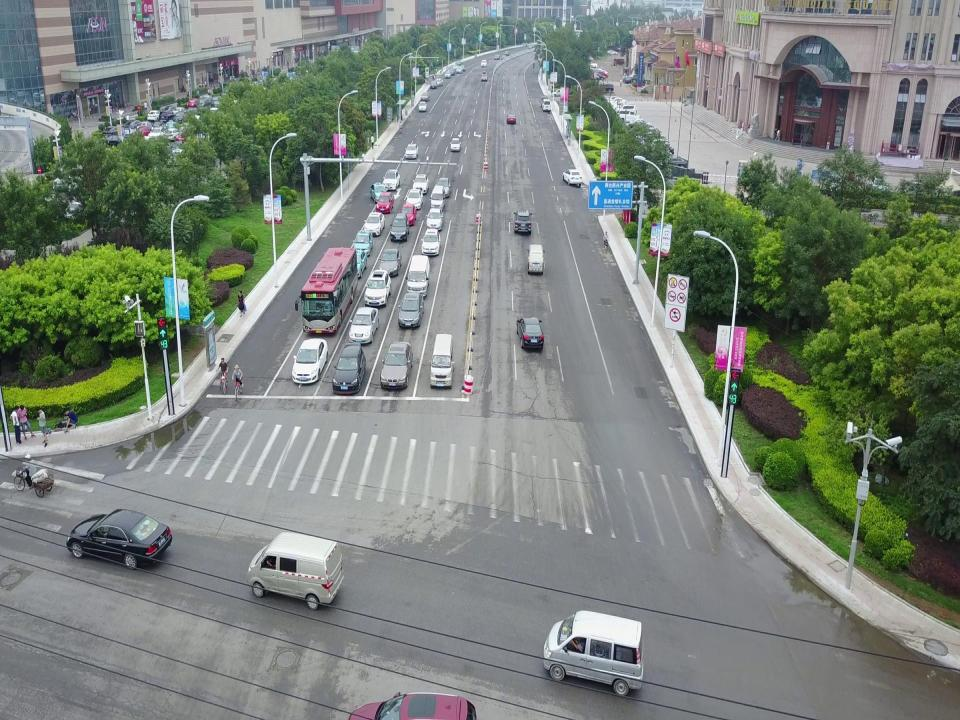bus: (294, 246, 358, 335)
car: (66, 508, 172, 570), (345, 689, 477, 720), (332, 342, 367, 395), (291, 338, 329, 384), (379, 341, 414, 390), (347, 306, 379, 344), (364, 269, 392, 308), (398, 291, 425, 329), (516, 316, 544, 350), (344, 247, 368, 278), (378, 248, 402, 278), (390, 212, 410, 243), (352, 229, 374, 257), (420, 228, 442, 256), (363, 212, 385, 237), (656, 156, 688, 173), (513, 210, 533, 236), (425, 206, 444, 230), (376, 190, 394, 214), (611, 109, 641, 123), (369, 182, 388, 204), (399, 203, 417, 226), (382, 169, 400, 191), (405, 188, 423, 210), (411, 173, 429, 195), (614, 104, 638, 120), (562, 169, 582, 187), (436, 177, 452, 198), (404, 144, 418, 160), (449, 137, 461, 152), (597, 82, 615, 92), (505, 113, 517, 125), (417, 100, 427, 112), (420, 92, 430, 102), (541, 94, 549, 106), (434, 78, 444, 87), (622, 75, 632, 84), (480, 70, 488, 81), (450, 63, 458, 72), (430, 79, 437, 89), (444, 70, 452, 78), (456, 66, 464, 74), (607, 49, 617, 55), (448, 68, 456, 75), (481, 59, 487, 67), (460, 64, 466, 71), (501, 54, 507, 61), (494, 54, 500, 60), (504, 50, 510, 56)
van: (543, 610, 644, 697), (247, 531, 345, 611), (429, 332, 455, 389), (405, 254, 431, 298), (525, 243, 545, 276), (429, 185, 446, 210), (541, 98, 551, 112), (613, 57, 625, 67)
